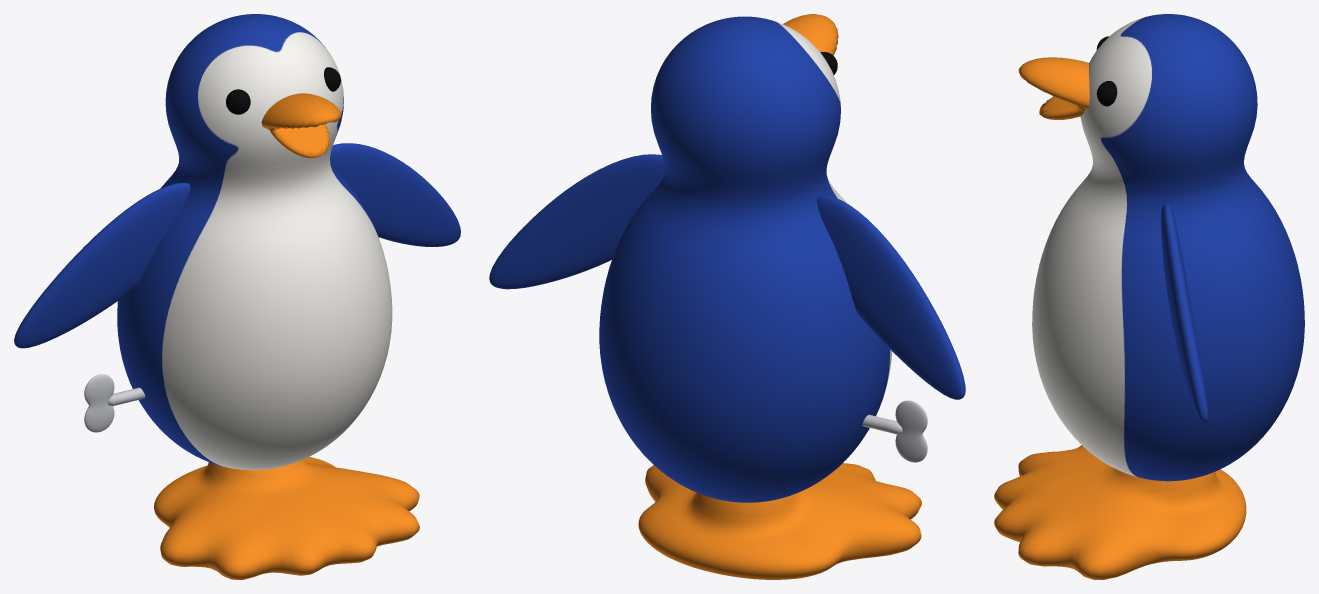
File: toy_penguin.glb
3 views of the same model, side by side, from view 1: azimuth 30°, elevation 25°; view 2: azimuth 150°, elevation 25°; view 3: azimuth 270°, elevation 25° (orthographic). The views are drawn at different scales.
Visible parts, largest first — view 1: Body, Feet, FlipperR, FlipperL, Beak, WindupKey; view 2: Body, Feet, FlipperL, FlipperR, WindupKey, Beak; view 3: Body, Feet, FlipperL, Beak, EyeL.
Part boxes in pixels (x1,y1,x2,y2): Body: (117,14,392,470); Feet: (154,457,419,579); FlipperR: (14,183,190,348); FlipperL: (330,143,460,246); Beak: (261,93,341,158); WindupKey: (84,374,145,432); Body: (599,16,891,502); Feet: (638,463,921,579); FlipperL: (489,154,665,289); FlipperR: (817,195,965,399); WindupKey: (862,400,927,462); Beak: (783,14,838,55); Body: (1032,14,1304,481); Feet: (994,445,1246,579); FlipperL: (1161,203,1208,422); Beak: (1018,57,1089,119); EyeL: (1096,81,1117,106).
Bounding box in the file's own units: 0.9436 × 0.995 × 0.5582.
5 materials, 1 textured.
